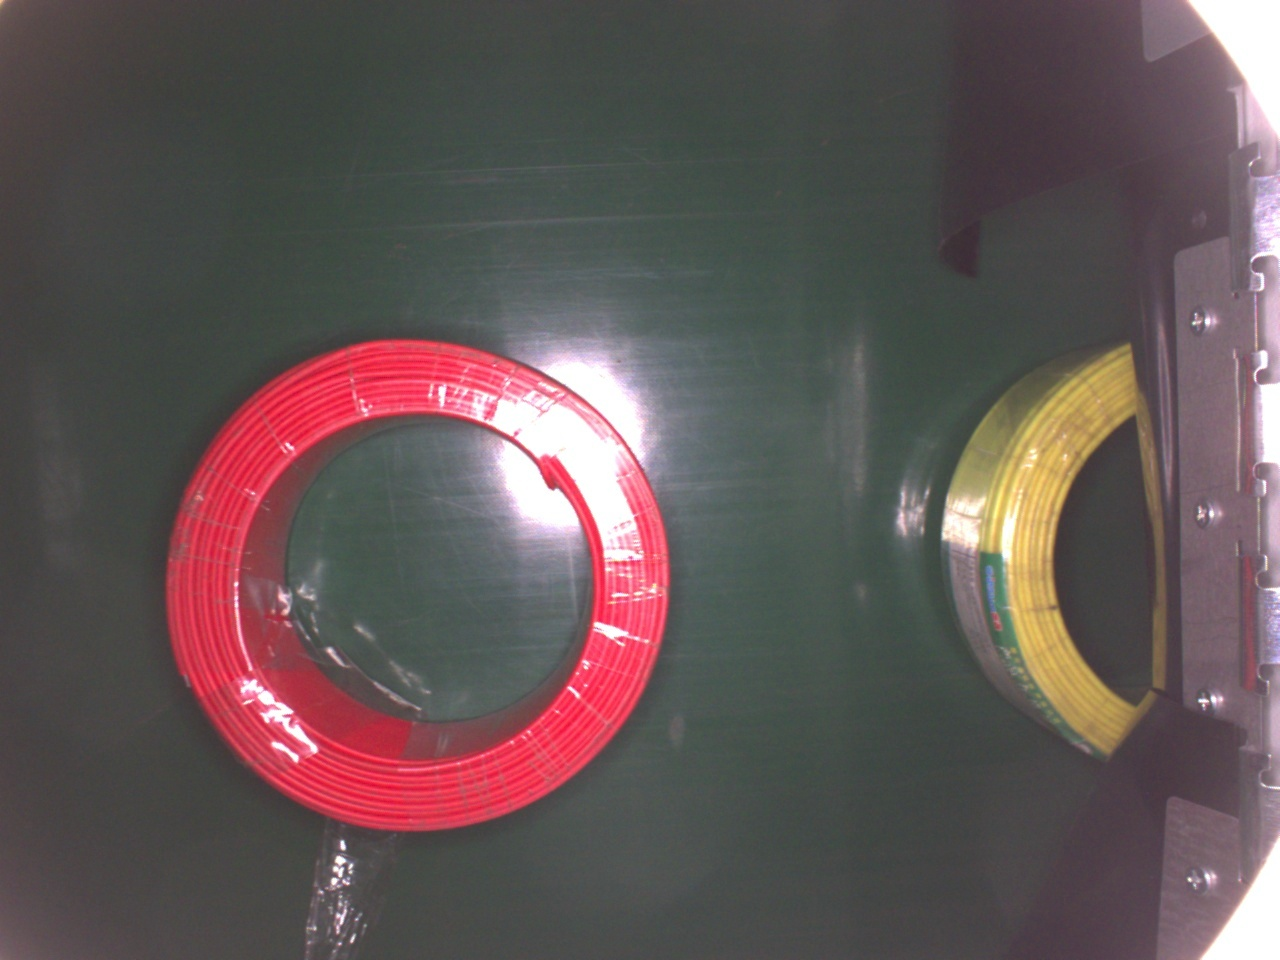red: (163, 335, 675, 835)
yellow: (936, 337, 1136, 763)
